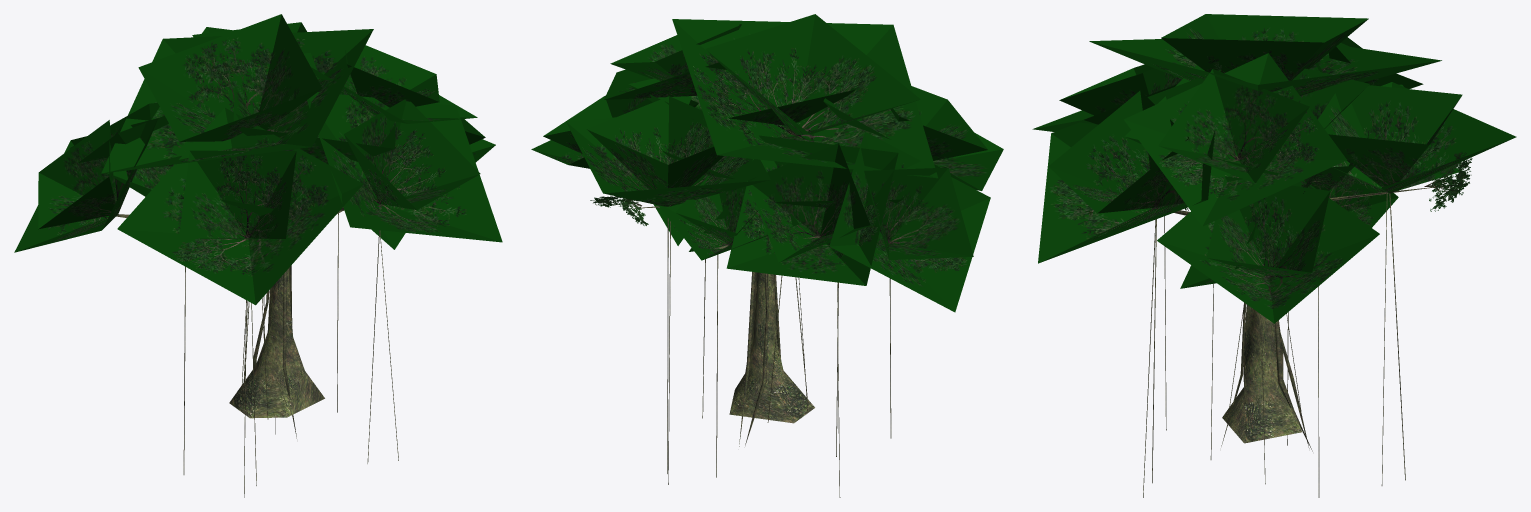
File: decd_treecanopy_a2_l2.fbx
The picture shows the model from 3 angles, left to right: view 1: azimuth 30°, elevation 25°; view 2: azimuth 150°, elevation 25°; view 3: azimuth 270°, elevation 25°; orthographic projection. The views are drawn at different scales.
Visible parts, largest first — view 1: mesh_node; view 2: mesh_node; view 3: mesh_node.
Part boxes in pixels (left/top/right/bottom): mesh_node: left=14, top=14, right=502, bottom=497; mesh_node: left=531, top=14, right=1003, bottom=497; mesh_node: left=1032, top=14, right=1516, bottom=497.
Bounding box in the file's own units: 36.62 × 32.93 × 31.14.
